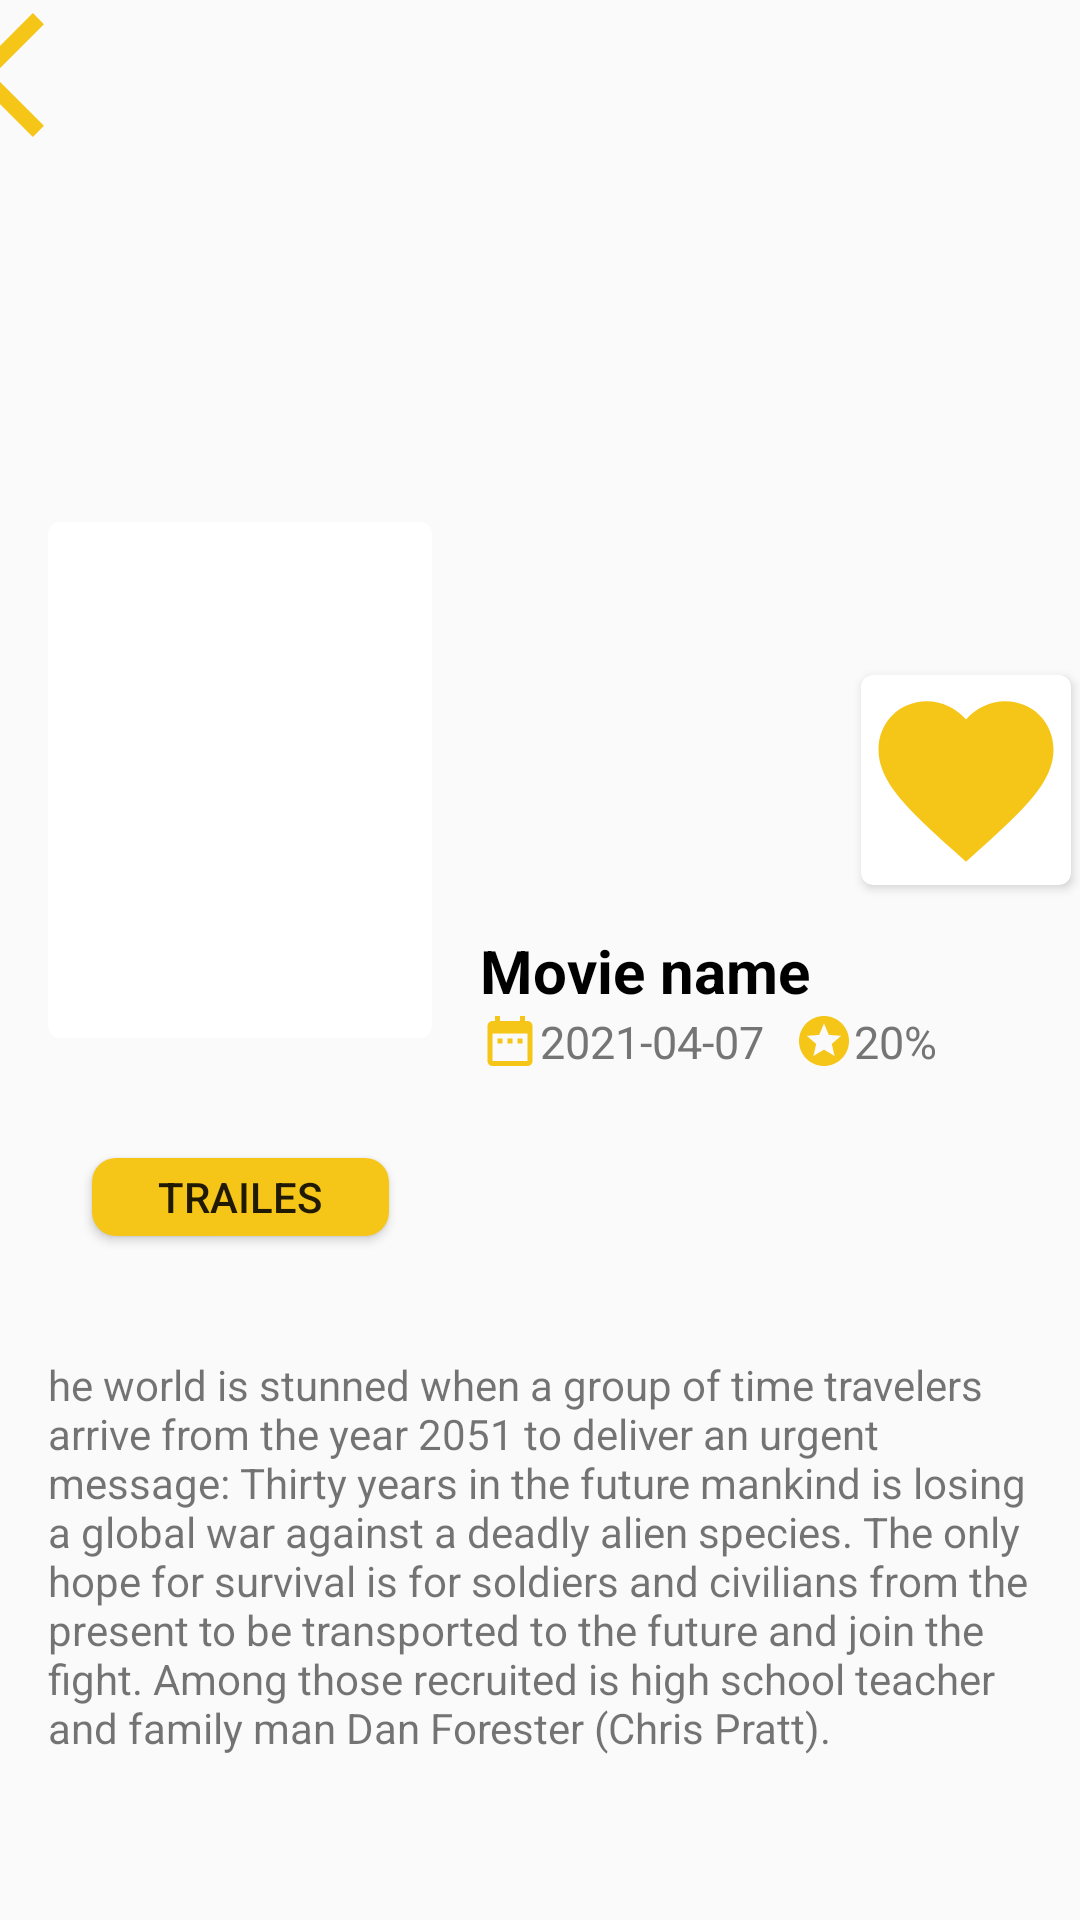

Named icons in this screenshot (1080*1920) and their centers, [x,y]:
date range: [510,1041]
favorite detail: [972,793]
stars: [824,1041]
